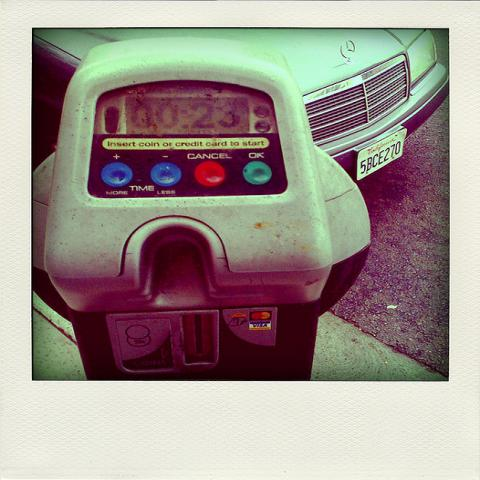car: (27, 29, 449, 182)
